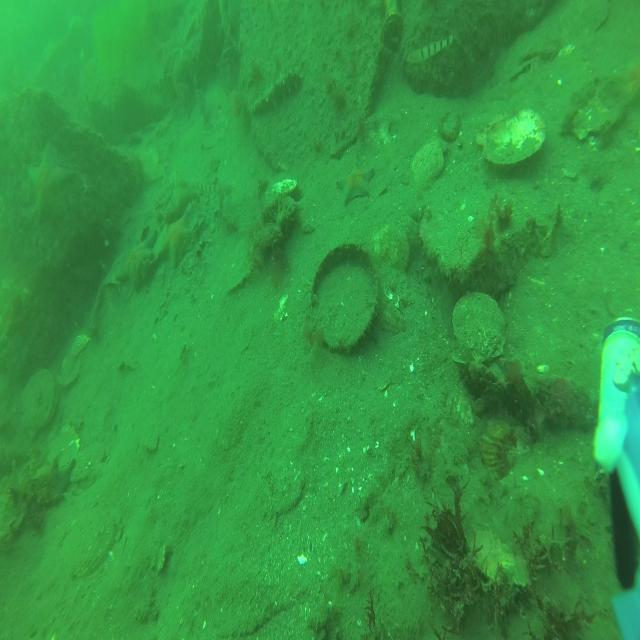holothurian: (247, 66, 303, 117)
scallop: (451, 290, 507, 365), (479, 421, 518, 479), (372, 225, 411, 281), (23, 373, 56, 436)
starfish: (28, 143, 72, 222), (154, 202, 198, 272), (118, 233, 157, 295), (336, 166, 374, 204)
